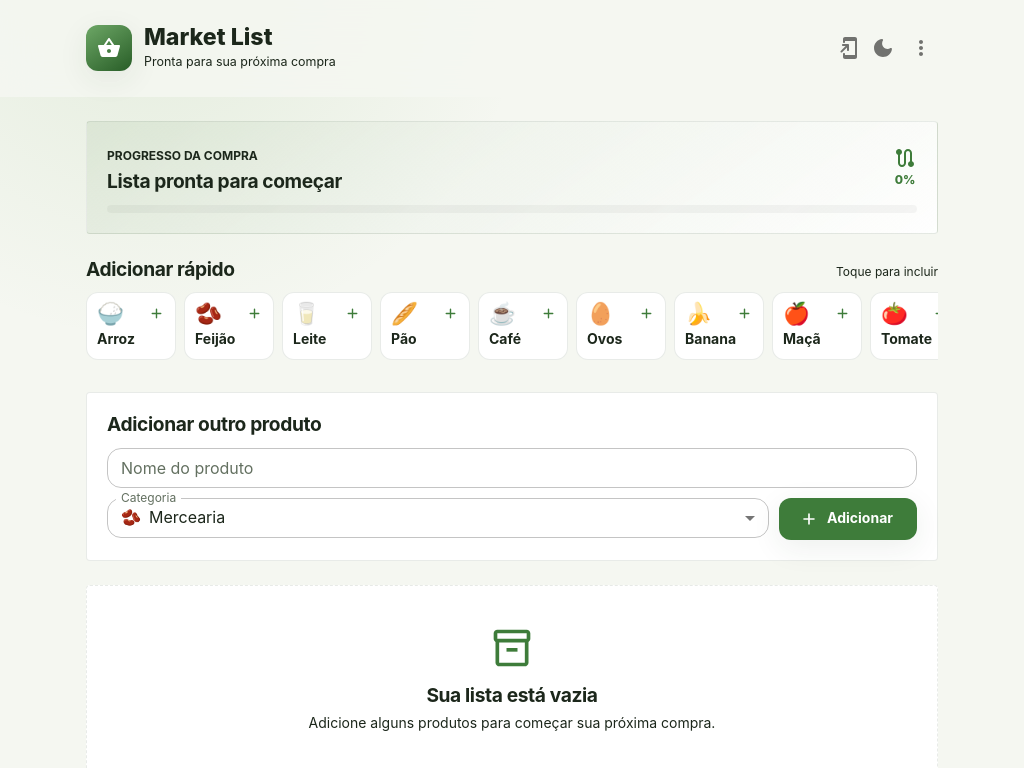
it: shopping page › adds a custom product with its selected category
Type "Molho de tomate" into the dropdown labelled "Nome do produto" at (510, 468), box [113,454,908,482]
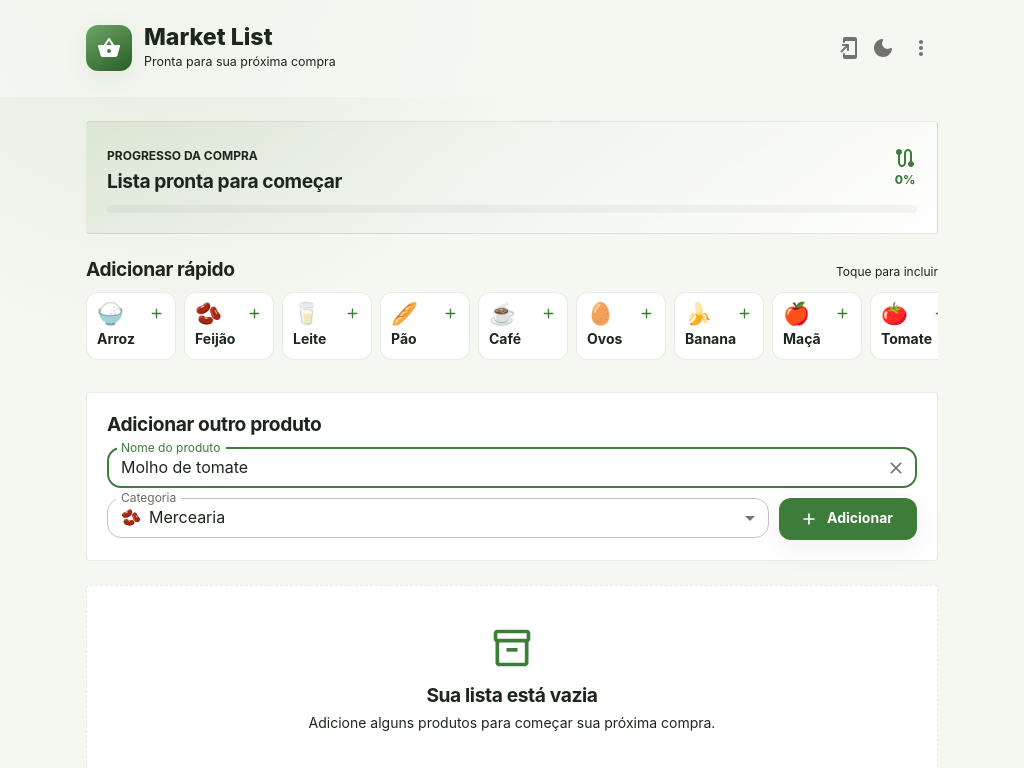
Click the button "Adicionar" at (848, 519), box [779,498,917,540]
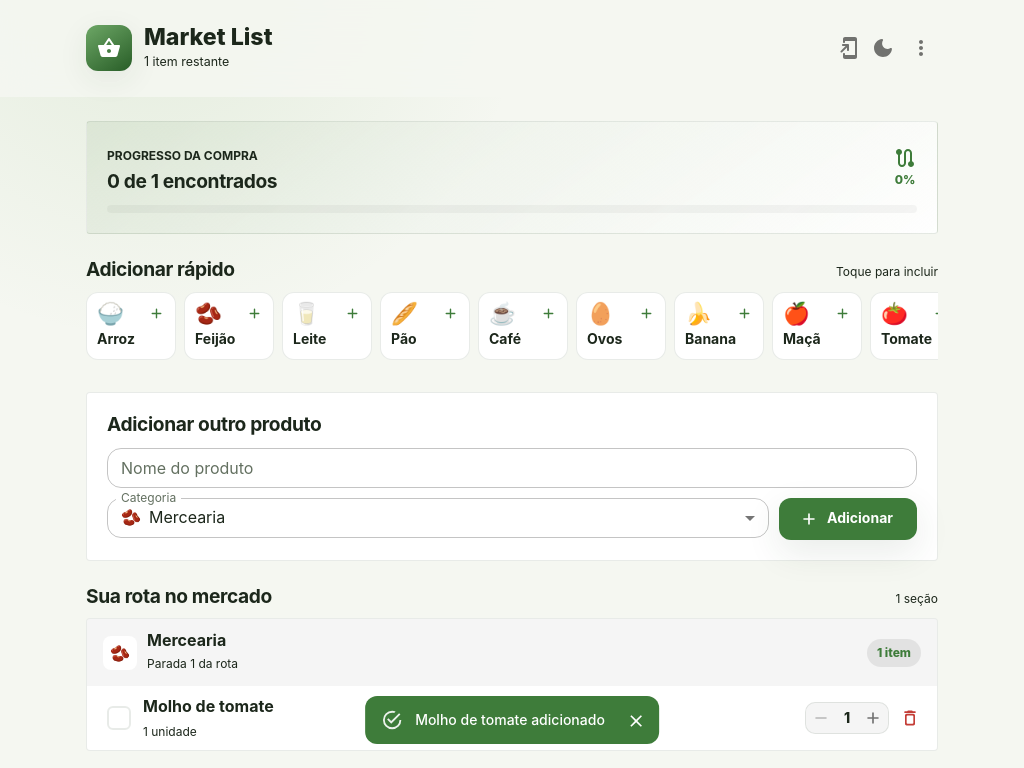
expect the text "Molho de tomate" is shown: met, box [143,696,274,716]
expect the heading "Mercearia" is shown: met, box [147,630,226,650]
